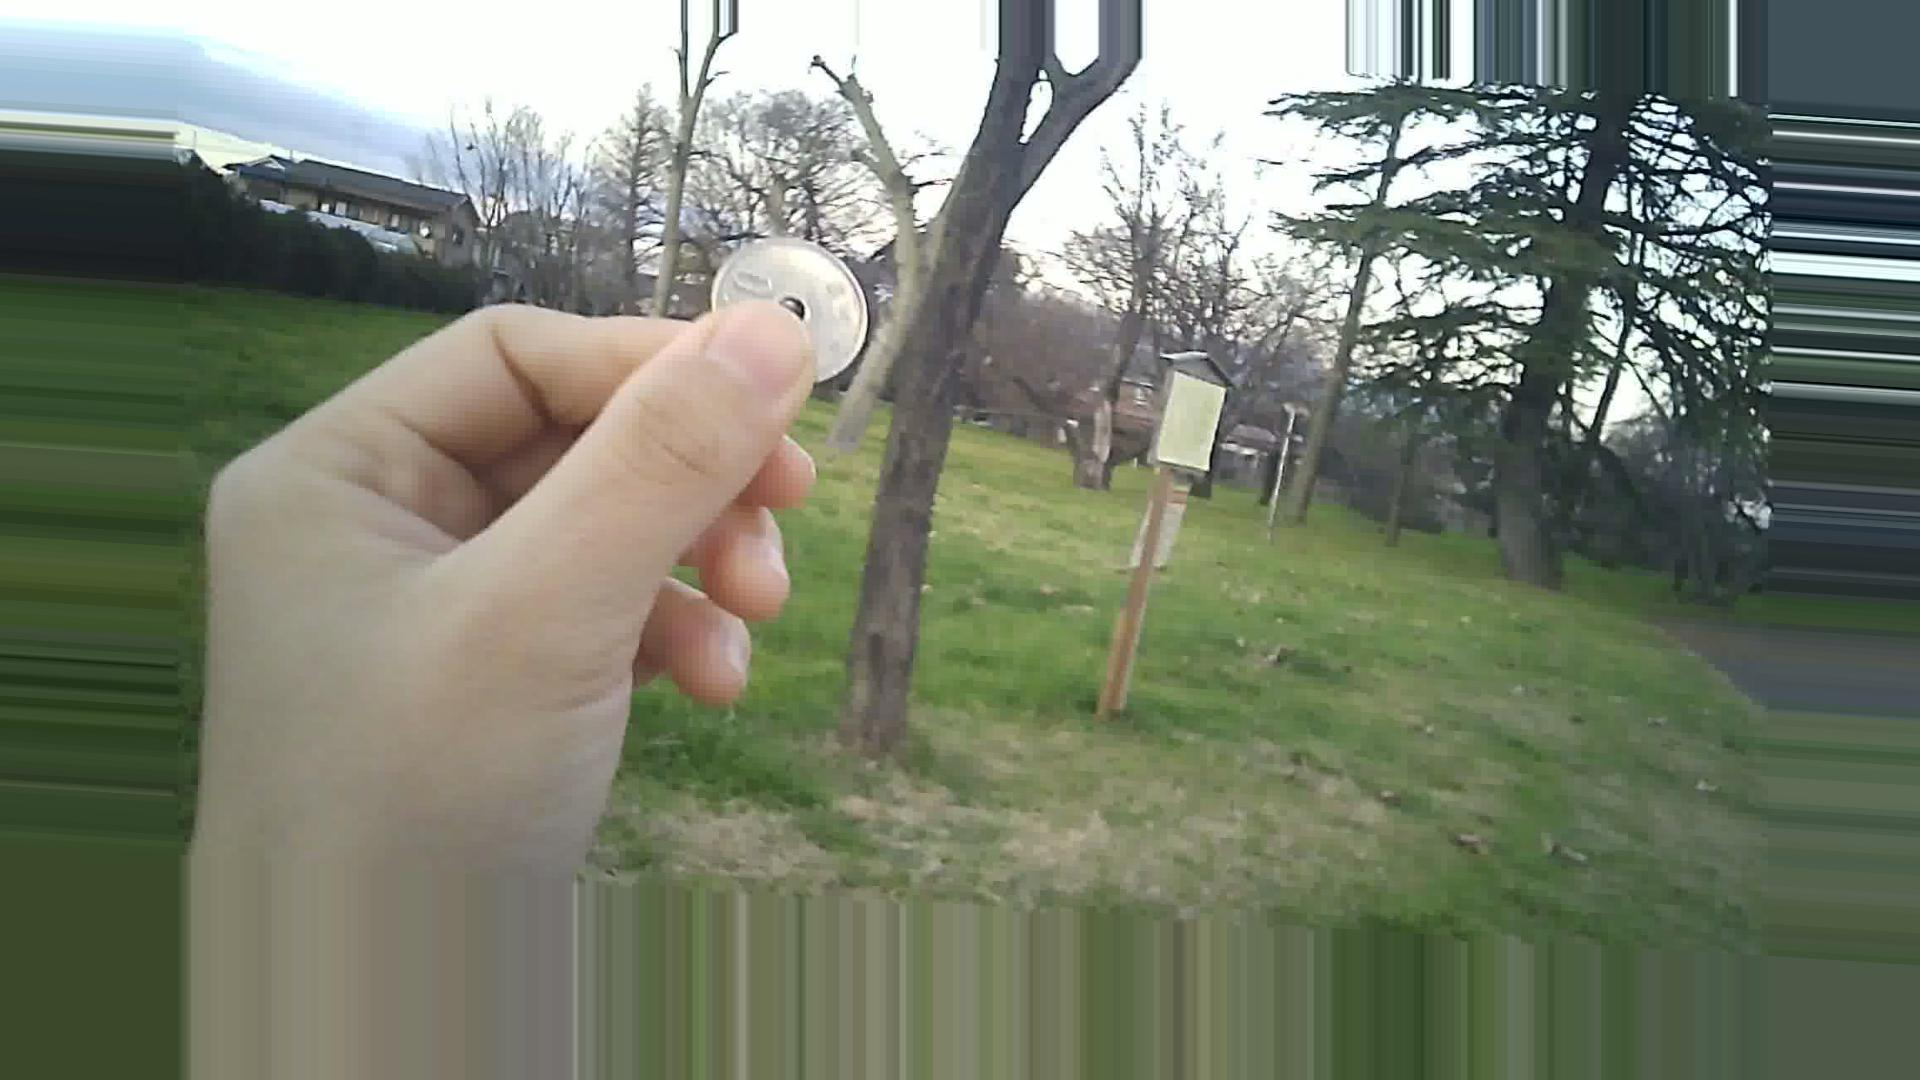50 Yen: (698, 227, 872, 381)
